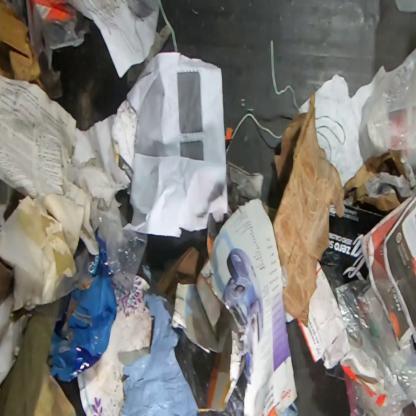cardboard: (272, 92, 344, 327), (0, 306, 55, 415), (0, 0, 43, 89)
rigid_plastic: (4, 0, 92, 99)
soft_plastic: (120, 293, 299, 416), (46, 234, 118, 383), (336, 278, 414, 415), (366, 48, 416, 171), (98, 212, 148, 298)
